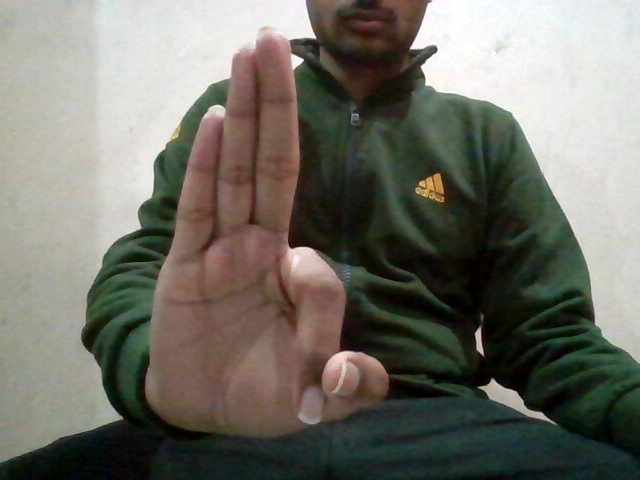F: (144, 19, 409, 439)
